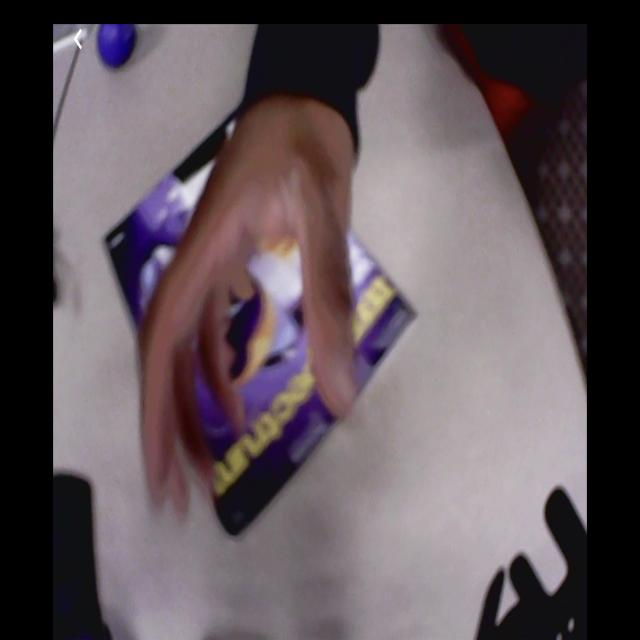ball: (97, 26, 139, 68)
